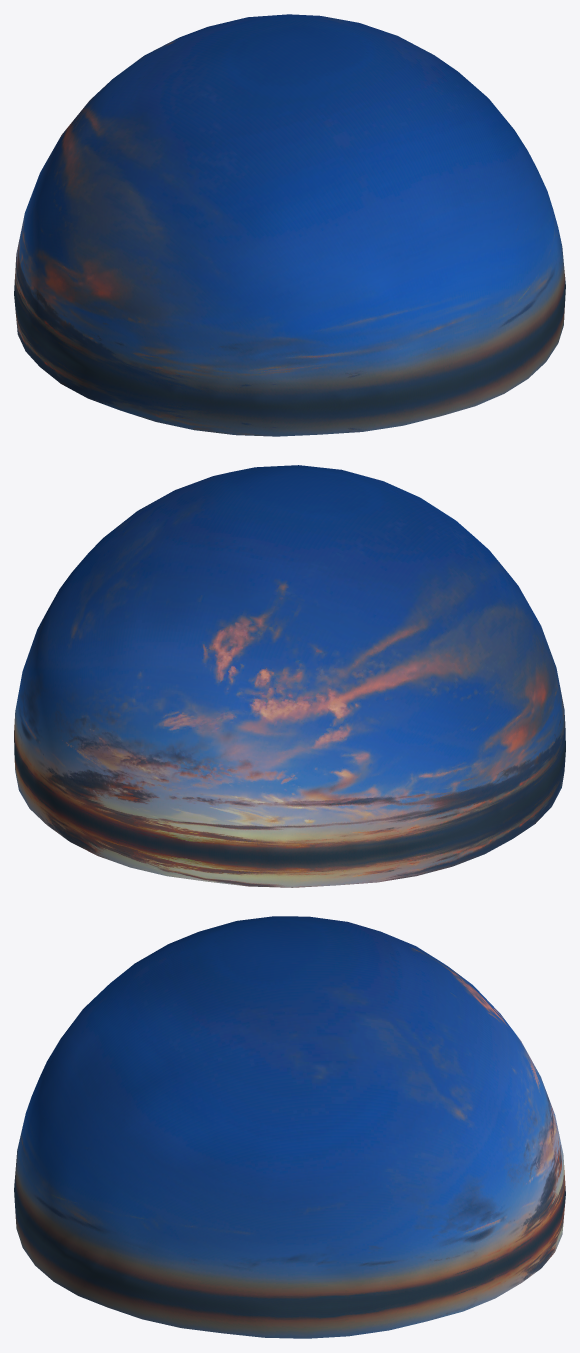
The model's file is StanzaSquidGame.obj.
The picture shows the model from 3 angles, top to bottom: view 1: azimuth 30°, elevation 25°; view 2: azimuth 150°, elevation 25°; view 3: azimuth 270°, elevation 25°; orthographic projection.
Parts seen in each view (by area): view 1: Sky_SkySphere_SphereMap.md; view 2: Sky_SkySphere_SphereMap.md; view 3: Sky_SkySphere_SphereMap.md.
Part boxes in pixels (<box>): Sky_SkySphere_SphereMap.md: <box>14,14,565,436</box>; Sky_SkySphere_SphereMap.md: <box>14,465,565,887</box>; Sky_SkySphere_SphereMap.md: <box>14,916,565,1338</box>.
Bounding box in the file's own units: 479 × 270 × 479.
Materials: 6 (5 with a texture image).
